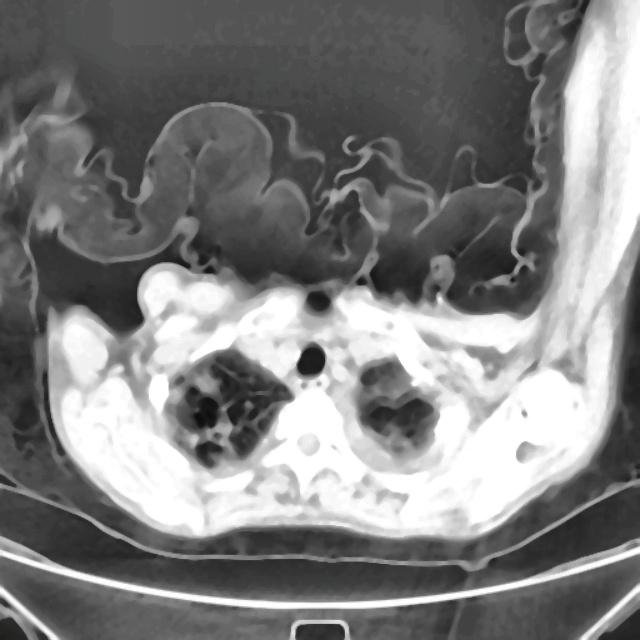covid: (9, 0, 637, 548)
